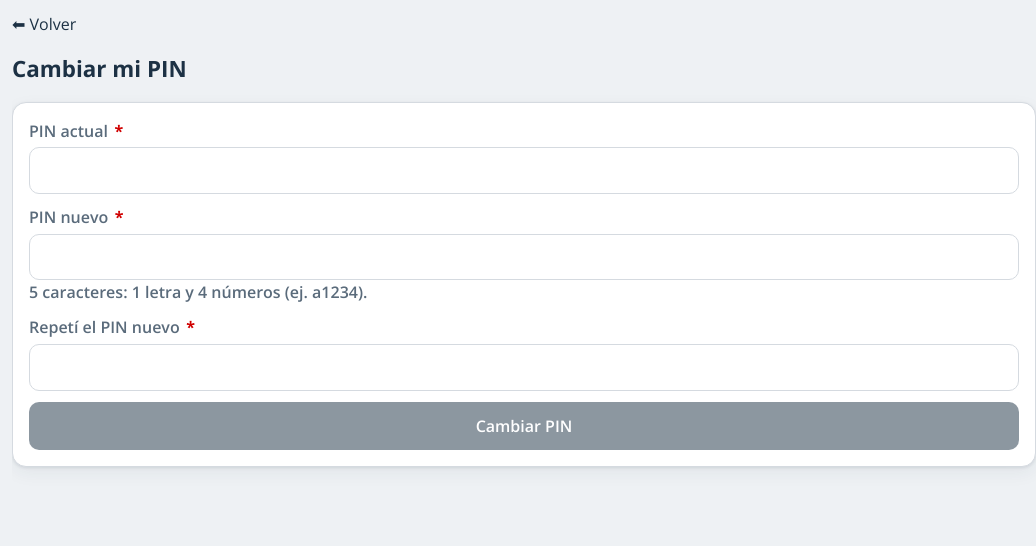
ChangePin › muestra el error del servidor (PIN actual incorrecto) y deja reintentar
The width and height of the screenshot is (1036, 546).
Type "x0000" into the password field labelled "PIN actual *" at (524, 171), box [29,147,1019,194]
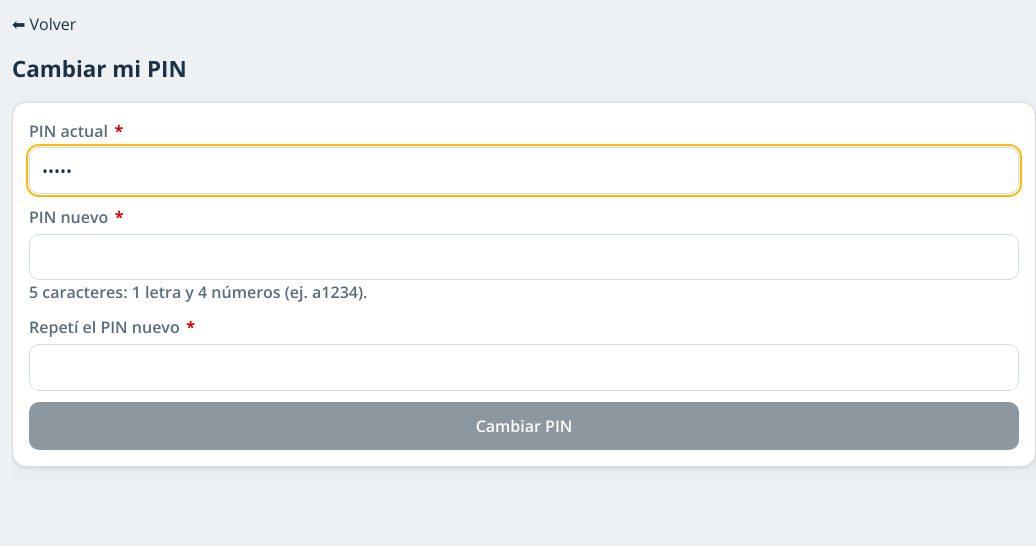
Type "z4321" into the password field labelled "PIN nuevo * 5 caracteres: 1 letra y 4 números (ej. a1234)." at (524, 257), box [29,234,1019,280]
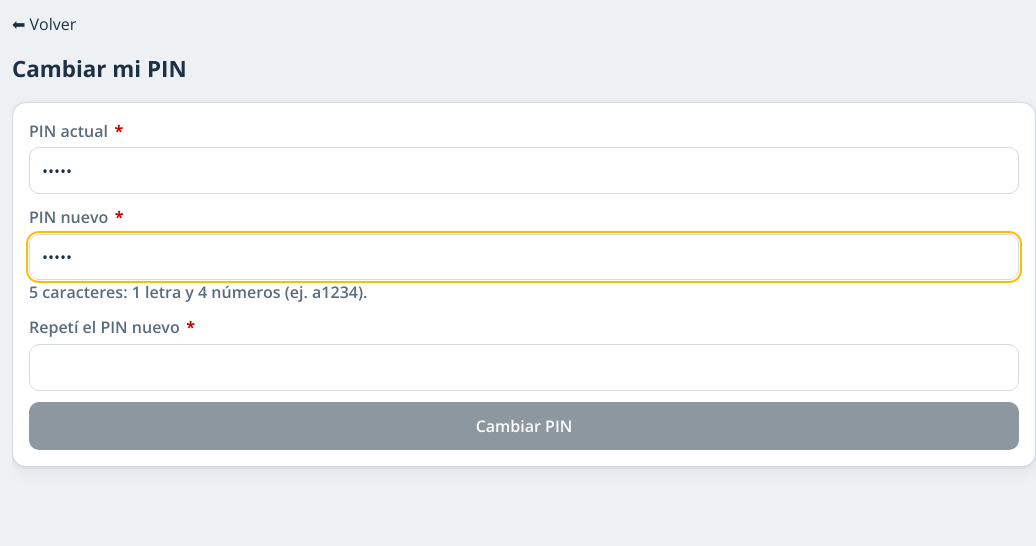
Type "z4321" into the password field labelled "Repetí el PIN nuevo *" at (524, 367), box [29,344,1019,390]
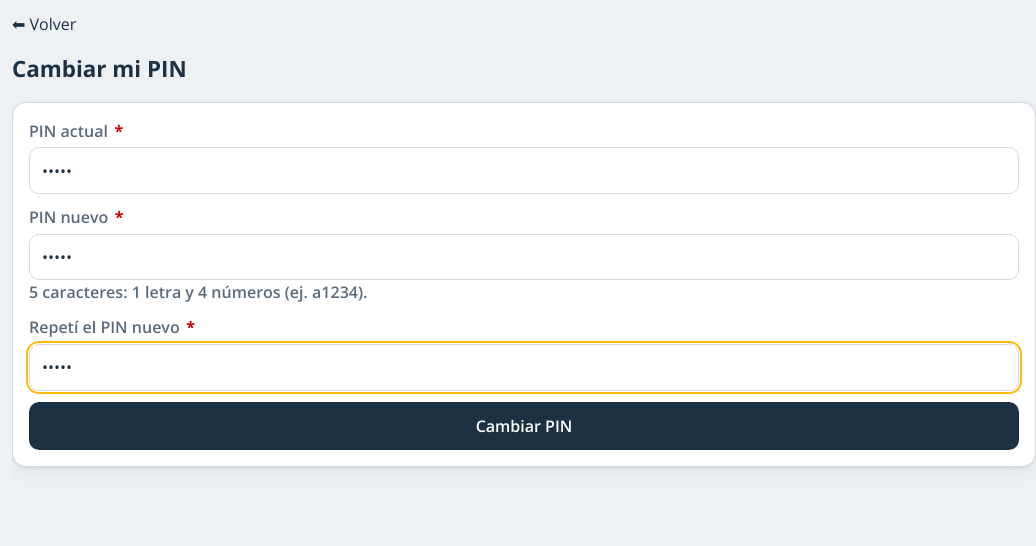
Click the button "Cambiar PIN" at (524, 426), box [29,402,1019,450]
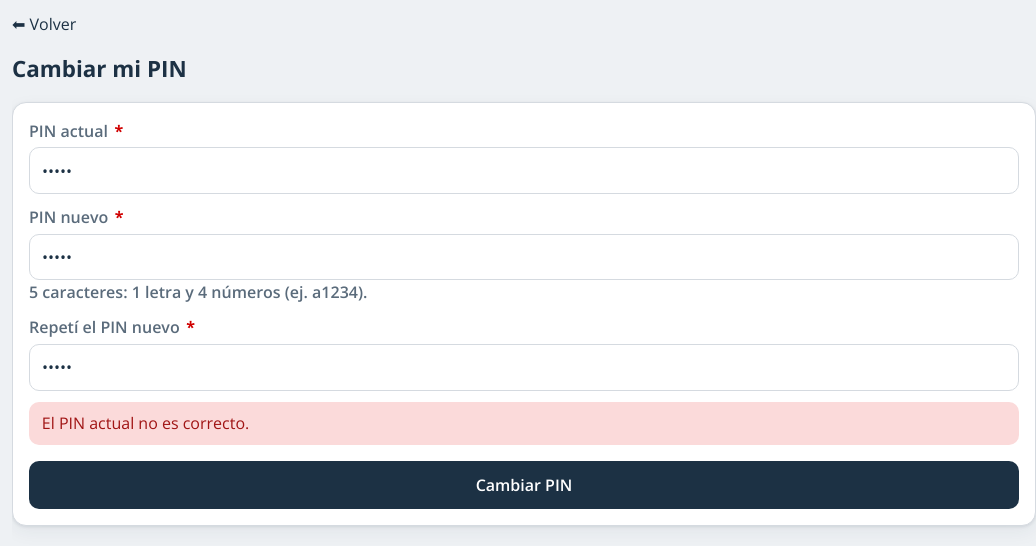
Expected: the button "Cambiar PIN" is enabled, [29,461,1019,509]
Expected: the text "El PIN actual no es correcto." is shown, [29,402,1019,445]
